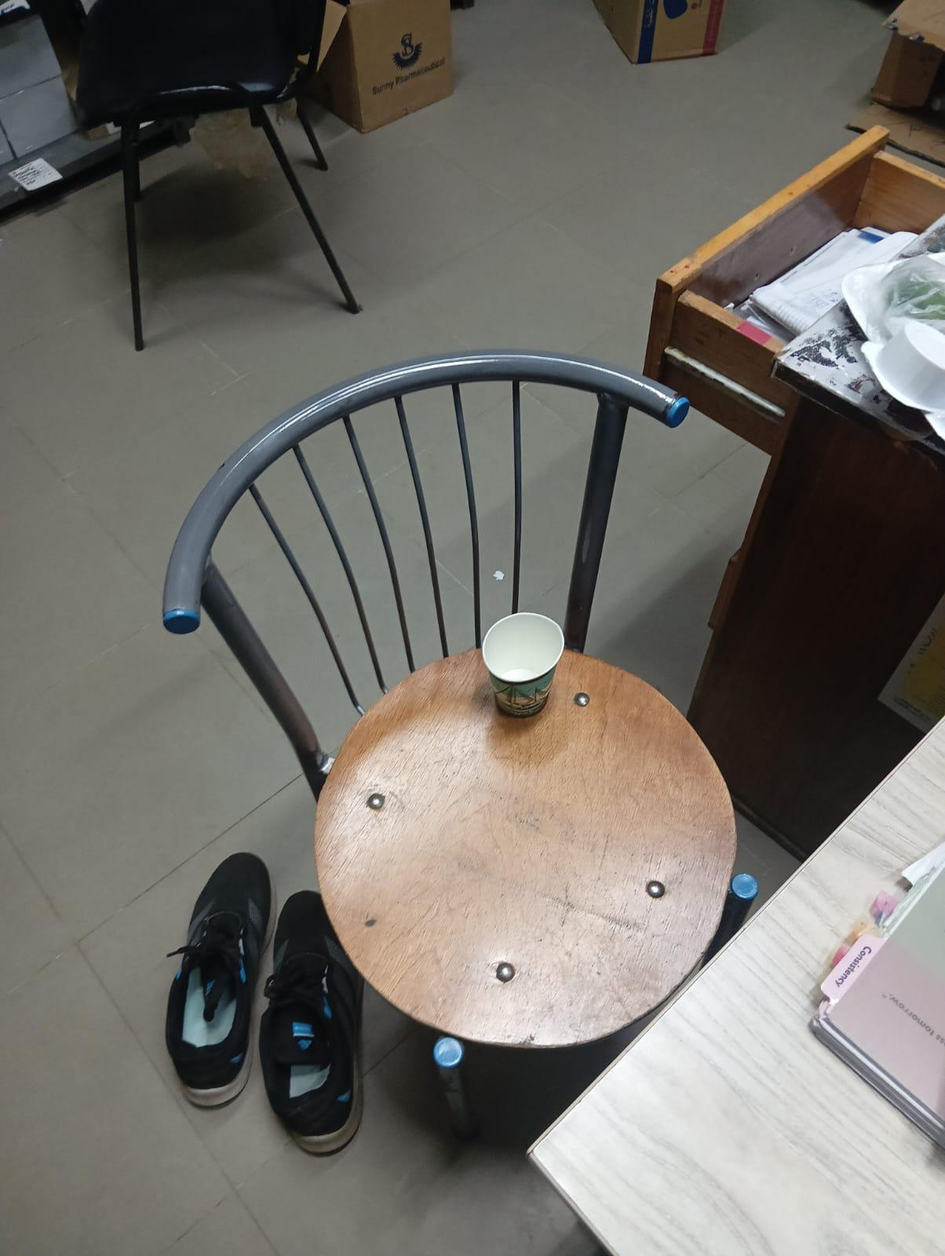cup: (482, 612, 564, 717), (489, 626, 559, 679)
